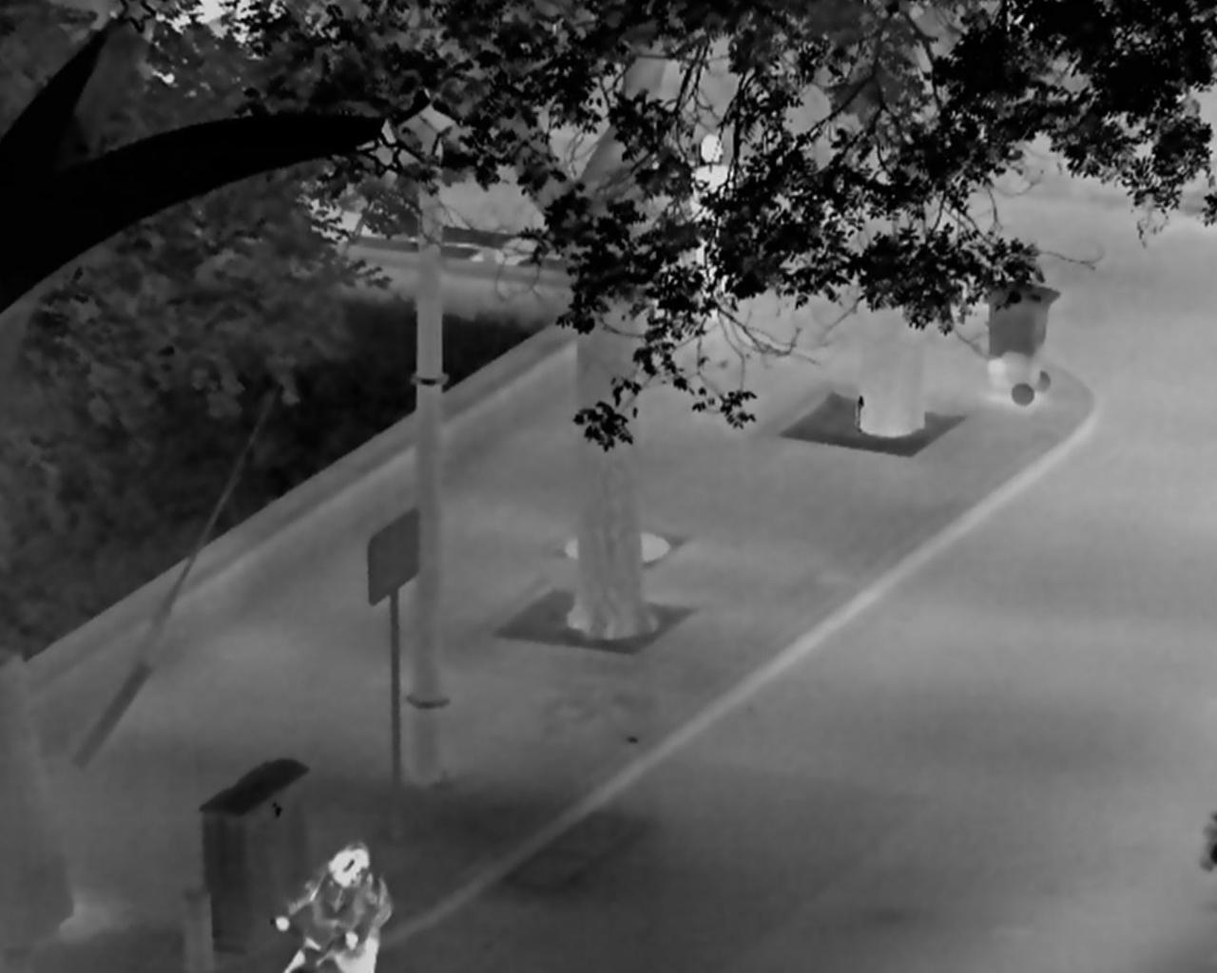person: (275, 849, 373, 973), (687, 132, 744, 324), (341, 838, 396, 973)
